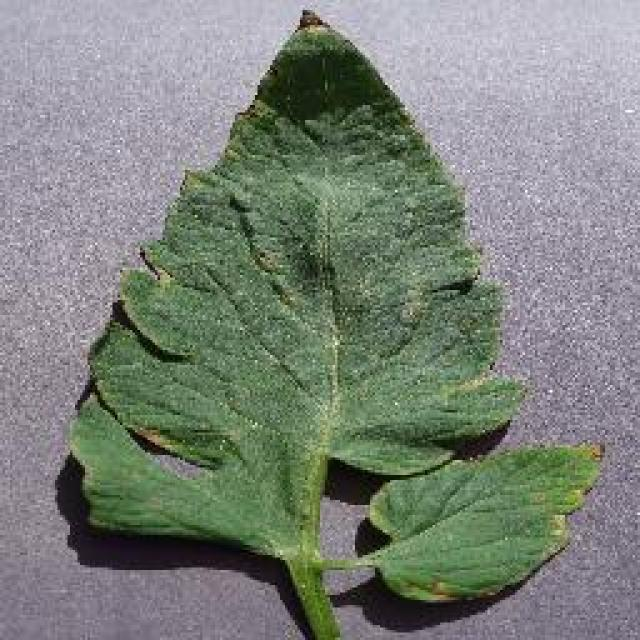Tomato___Target_Spot: (70, 10, 598, 638)
